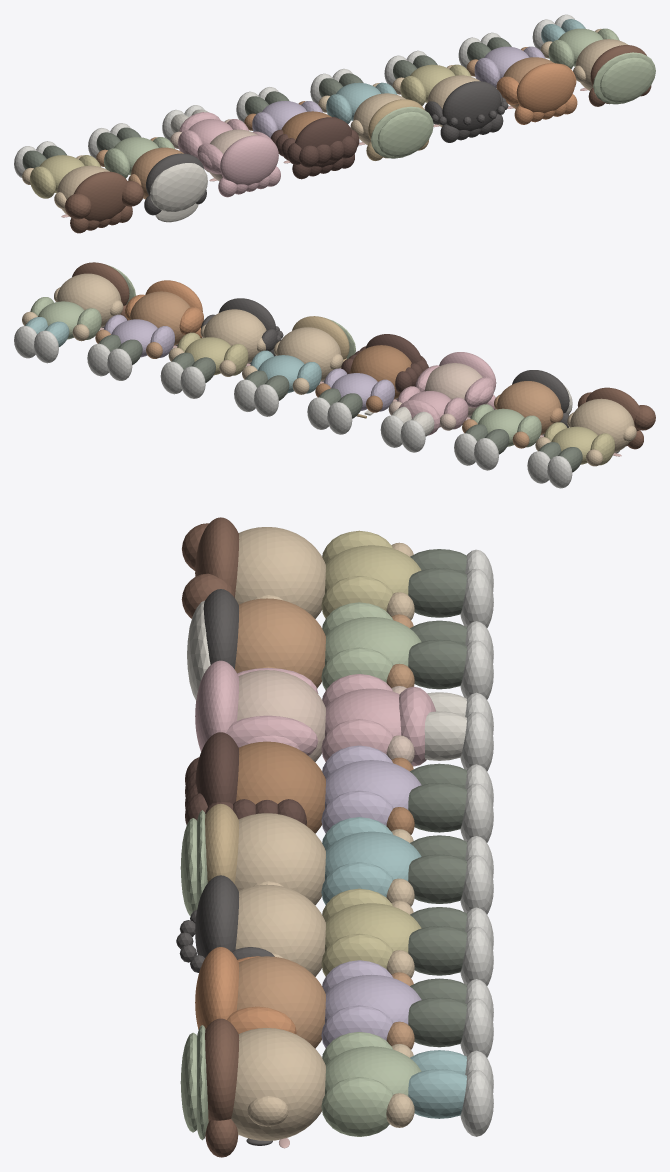
The model's file is dinur_character_lineup.glb.
3 renders of one model, top to bottom at view 1: azimuth 30°, elevation 25°; view 2: azimuth 150°, elevation 25°; view 3: azimuth 270°, elevation 25°, orthographic. The views are drawn at different scales.
Visible parts, largest first — view 1: COPYWRITER_hair_cap, HR_hair_cap, RESEARCH_cap_crown, ANALYST_hair_cap, FINANCE_beret_crown, QA_beret_crown, OPERATIONS_hair_cap, DESIGNER_hair_cap, QA_head_base, FINANCE_head_base, RESEARCH_head_base, OPERATIONS_head_base (+39 smaller); view 2: OPERATIONS_head_base, FINANCE_head_base, RESEARCH_head_base, QA_head_base, ANALYST_head_base, HR_head_base, DESIGNER_head_base, COPYWRITER_head_base, DESIGNER_body_shirt, HR_body_shirt, FINANCE_body_shirt, RESEARCH_body_shirt (+47 smaller); view 3: FINANCE_head_base, QA_head_base, OPERATIONS_head_base, RESEARCH_head_base, ANALYST_head_base, DESIGNER_head_base, HR_head_base, COPYWRITER_head_base, FINANCE_sleeve_R, FINANCE_hair_cap, QA_body_shirt, FINANCE_body_shirt (+61 smaller).
Part boxes in pixels (<box>): COPYWRITER_hair_cap: <box>220,135,278,185</box>; HR_hair_cap: <box>516,63,575,113</box>; RESEARCH_cap_crown: <box>150,163,207,211</box>; ANALYST_hair_cap: <box>442,81,500,131</box>; FINANCE_beret_crown: <box>600,57,653,102</box>; QA_beret_crown: <box>377,112,431,156</box>; OPERATIONS_hair_cap: <box>74,171,127,221</box>; DESIGNER_hair_cap: <box>295,117,351,167</box>; QA_head_base: <box>353,93,405,145</box>; FINANCE_head_base: <box>575,39,627,90</box>; RESEARCH_head_base: <box>131,147,183,199</box>; OPERATIONS_head_base: <box>57,165,109,217</box>; OPERATIONS_head_base: <box>570,398,634,452</box>; FINANCE_head_base: <box>56,273,121,327</box>; RESEARCH_head_base: <box>496,381,561,434</box>; QA_head_base: <box>276,327,341,381</box>; ANALYST_head_base: <box>203,309,266,363</box>; HR_head_base: <box>129,291,190,345</box>; DESIGNER_head_base: <box>350,345,411,399</box>; COPYWRITER_head_base: <box>424,363,482,416</box>; DESIGNER_body_shirt: <box>331,373,377,410</box>; HR_body_shirt: <box>111,319,157,357</box>; FINANCE_body_shirt: <box>38,301,84,339</box>; RESEARCH_body_shirt: <box>478,408,524,446</box>; FINANCE_head_base: <box>231,1028,325,1140</box>; QA_head_base: <box>234,813,325,905</box>; OPERATIONS_head_base: <box>235,527,325,618</box>; RESEARCH_head_base: <box>234,598,325,688</box>; ANALYST_head_base: <box>235,884,325,976</box>; DESIGNER_head_base: <box>236,741,325,833</box>; HR_head_base: <box>236,956,325,1048</box>; COPYWRITER_head_base: <box>237,670,325,762</box>; FINANCE_sleeve_R: <box>321,1077,393,1136</box>; FINANCE_hair_cap: <box>205,1018,239,1121</box>; QA_body_shirt: <box>325,831,421,881</box>; FINANCE_body_shirt: <box>325,1046,421,1095</box>.
Size of the model in its own units: 13.13 by 1.39 by 3.1.
